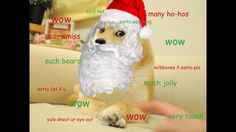doge: (90, 23, 130, 49)
